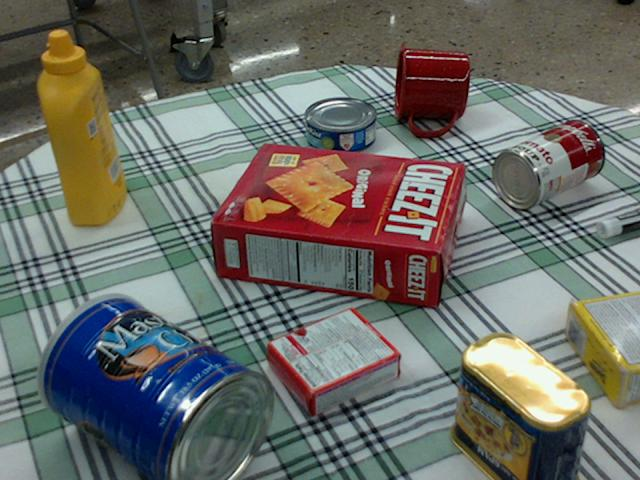cracker_box: (209, 140, 464, 308)
gelatin_box: (266, 307, 402, 412)
large_marker: (596, 210, 639, 236)
master_chef_can: (34, 294, 272, 479)
mug: (392, 43, 470, 135)
mustard_bottle: (38, 30, 126, 224)
potted_meat_can: (449, 330, 590, 479)
sugar_box: (566, 292, 639, 410)
tomato_soup_can: (492, 119, 603, 207)
tuna_fish_can: (304, 97, 376, 153)
